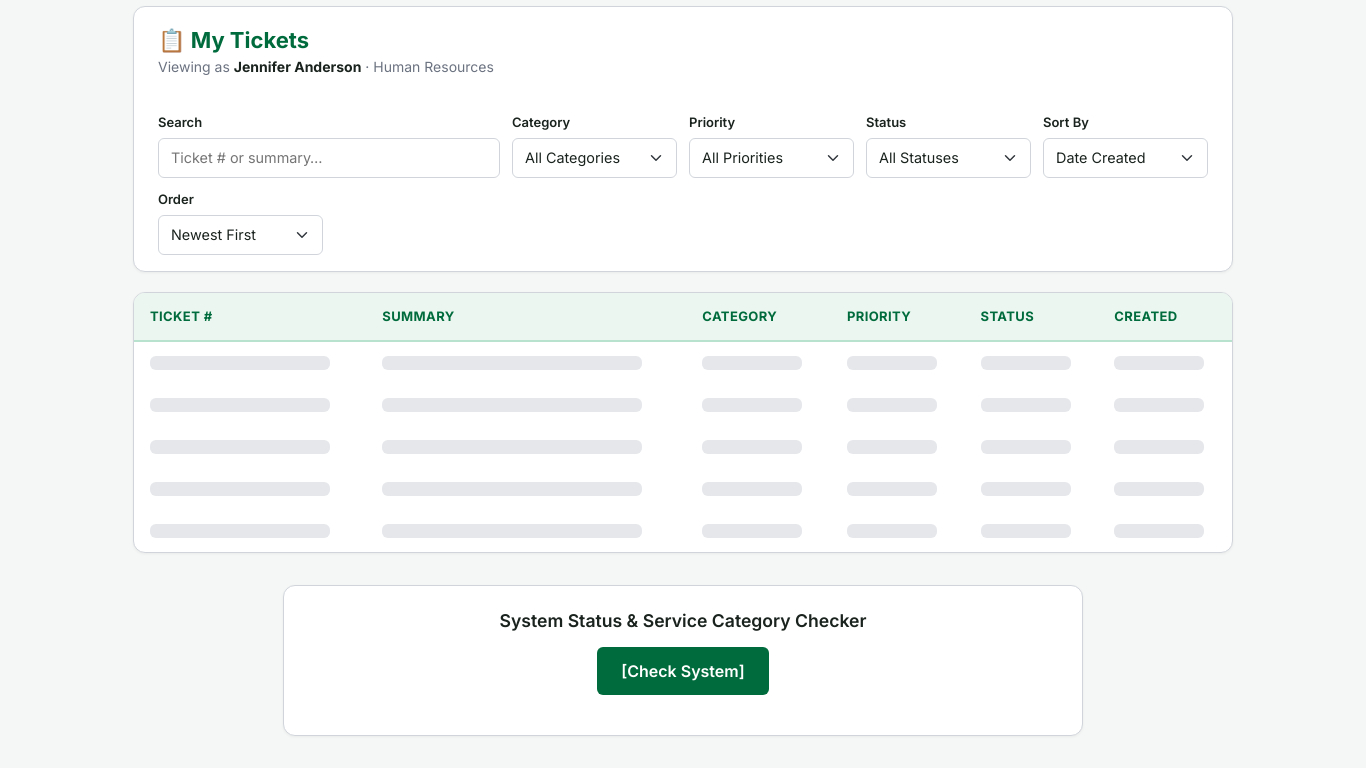
Scenario: TokTickIT IT Service Desk Component › displays loading state during system check
(page scrolled)
Click the button "[Check System]". click: (683, 671)
box: [597,647,769,695]
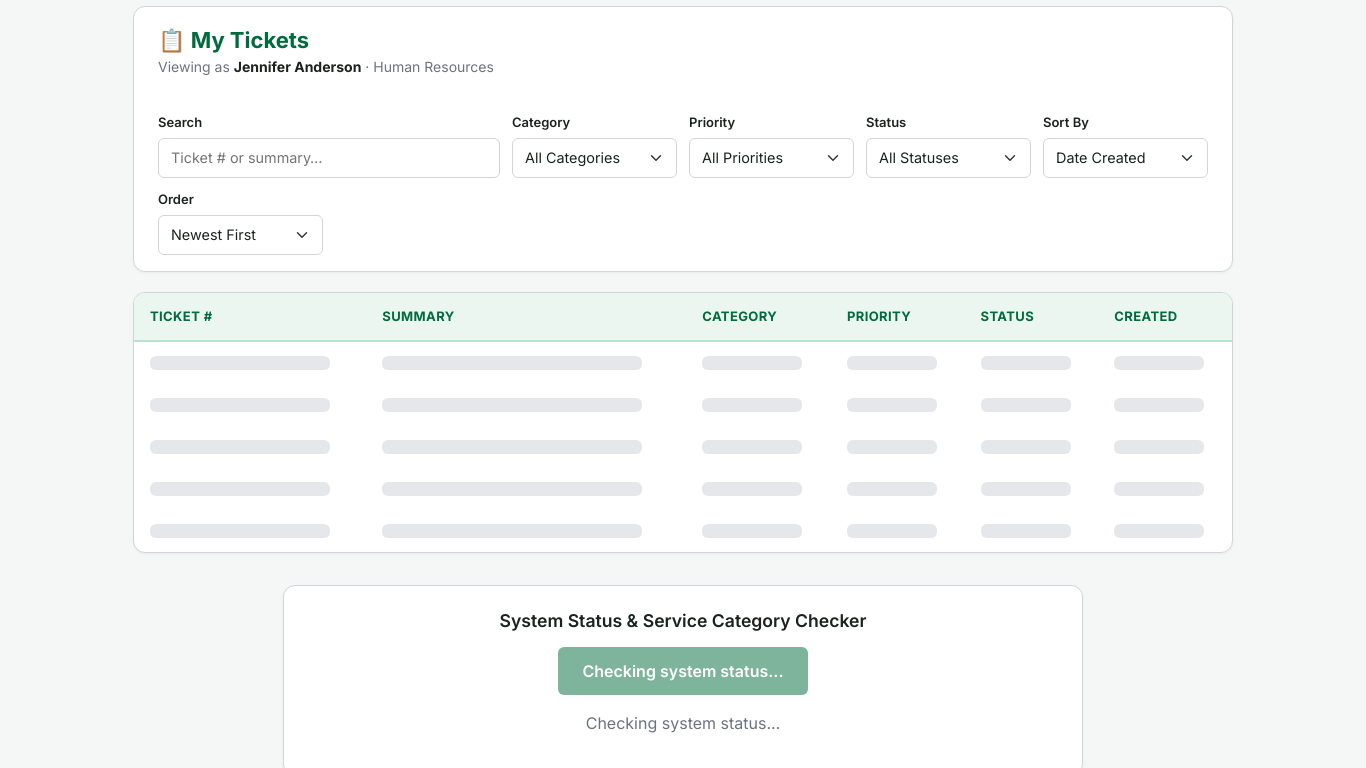
Now the button "Checking system status..." is shown, box [558,647,808,695]
